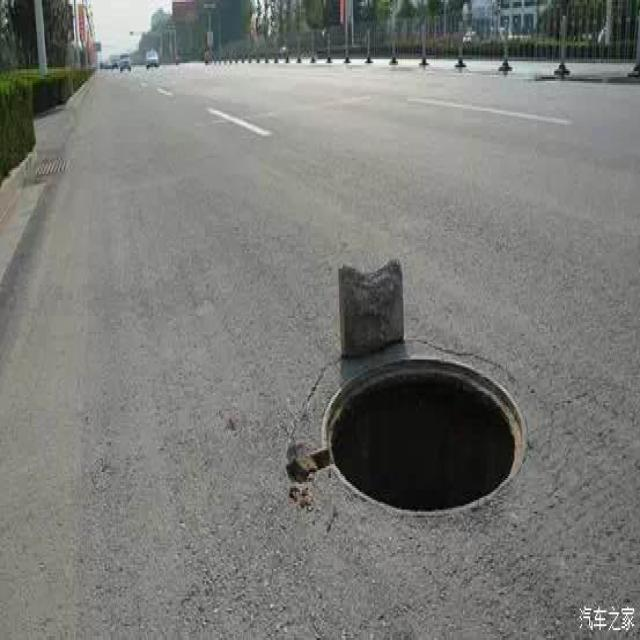manhole-cover: (306, 332, 556, 536)
obstracle: (333, 258, 409, 364)
